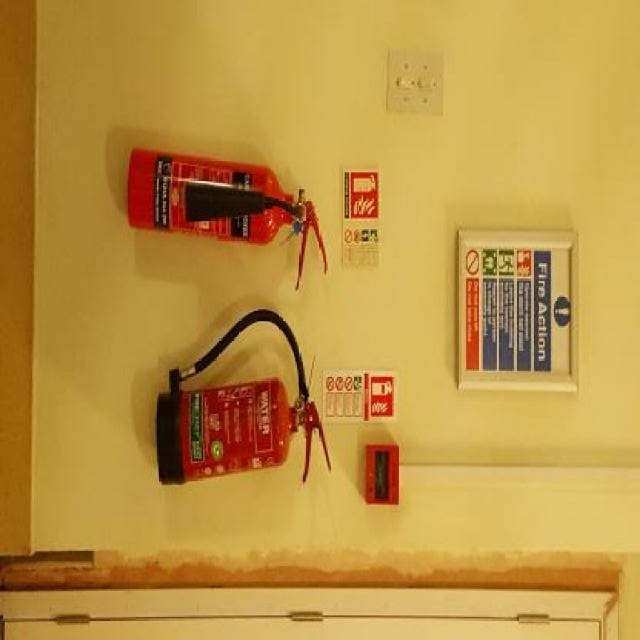fire extinguisher: (154, 308, 331, 486), (127, 147, 327, 293)
